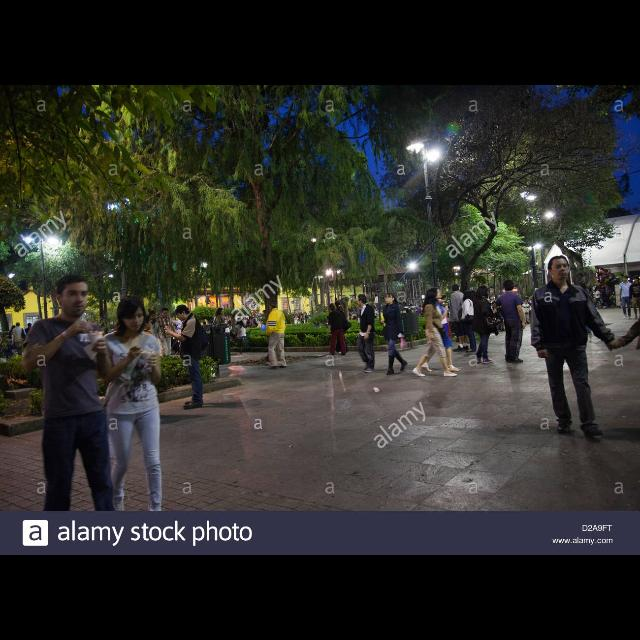head: (54, 274, 90, 318), (119, 298, 145, 332), (548, 256, 570, 280), (176, 304, 190, 322), (478, 286, 489, 300), (384, 294, 396, 304), (428, 289, 440, 299), (432, 288, 442, 300), (268, 302, 278, 312), (357, 296, 367, 306), (504, 281, 514, 291), (161, 308, 169, 318), (216, 308, 224, 316), (329, 304, 337, 312), (452, 284, 460, 292), (464, 292, 472, 300), (150, 311, 156, 321), (634, 276, 640, 284), (335, 301, 341, 307), (13, 326, 17, 332), (624, 276, 628, 282), (16, 323, 20, 327), (28, 324, 32, 328), (238, 320, 242, 324), (525, 300, 529, 304), (598, 290, 602, 292)
person: (20, 272, 121, 554), (93, 294, 169, 526), (528, 255, 618, 439), (163, 304, 210, 412), (412, 286, 458, 379), (420, 286, 464, 374), (493, 280, 527, 364), (473, 284, 505, 366), (379, 293, 409, 377), (355, 294, 377, 374), (264, 300, 288, 372), (448, 284, 470, 354), (144, 308, 166, 369), (457, 291, 478, 354), (154, 307, 176, 365), (326, 302, 348, 358), (333, 300, 353, 356), (213, 308, 229, 354), (618, 275, 634, 321), (11, 322, 27, 360), (225, 318, 248, 344), (23, 323, 34, 353), (594, 289, 608, 311), (8, 326, 18, 354), (521, 299, 531, 325)
